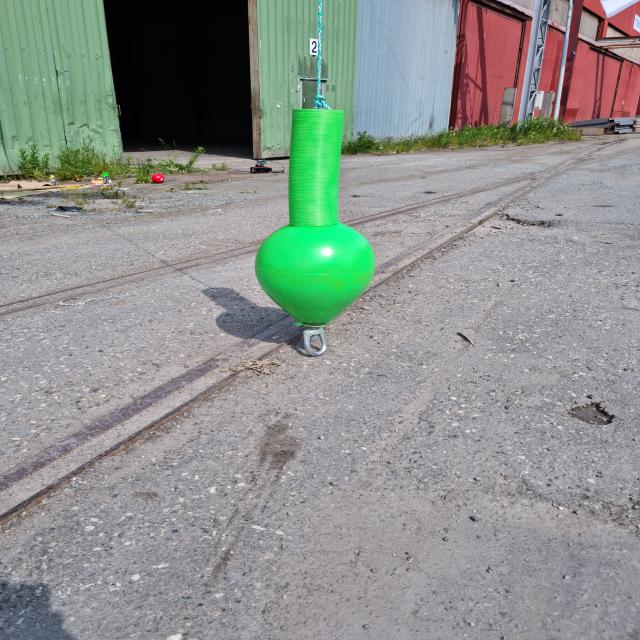green: (257, 106, 378, 326)
